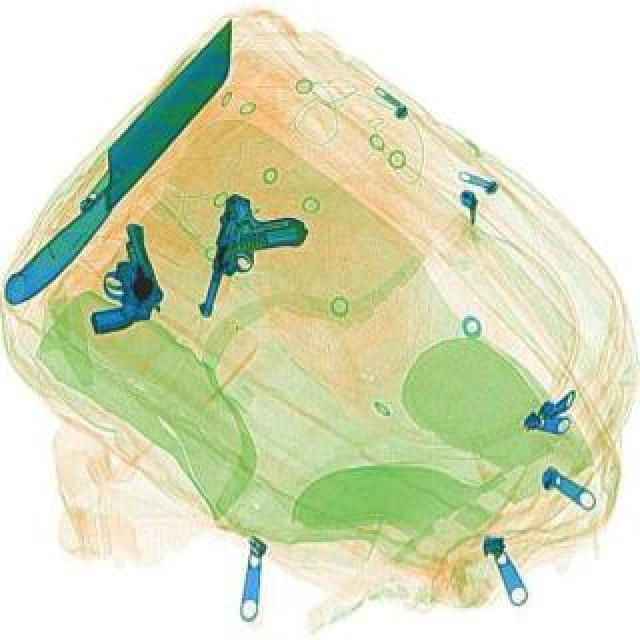gun: (198, 196, 312, 338), (66, 226, 170, 342)
knife: (0, 18, 258, 310)
